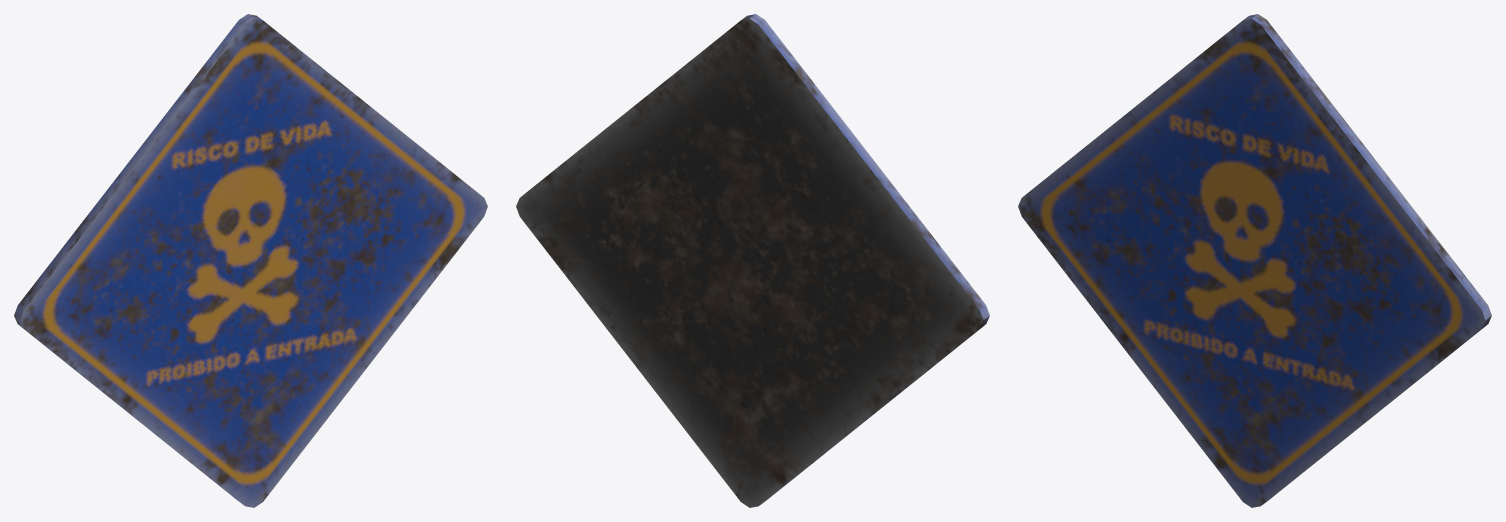
The model's file is Danger sign.fbx.
3 renders of one model, left to right at view 1: azimuth 30°, elevation 25°; view 2: azimuth 150°, elevation 25°; view 3: azimuth 330°, elevation 25°, orthographic.
Visible parts, largest first — view 1: Cube.001; view 2: Cube.001; view 3: Cube.001.
Part boxes in pixels (x1,y1,x2,y2): Cube.001: [14, 14, 487, 507]; Cube.001: [516, 14, 989, 507]; Cube.001: [1018, 14, 1491, 507].
Size of the model in its own units: 54.78 by 54.78 by 1.31.
